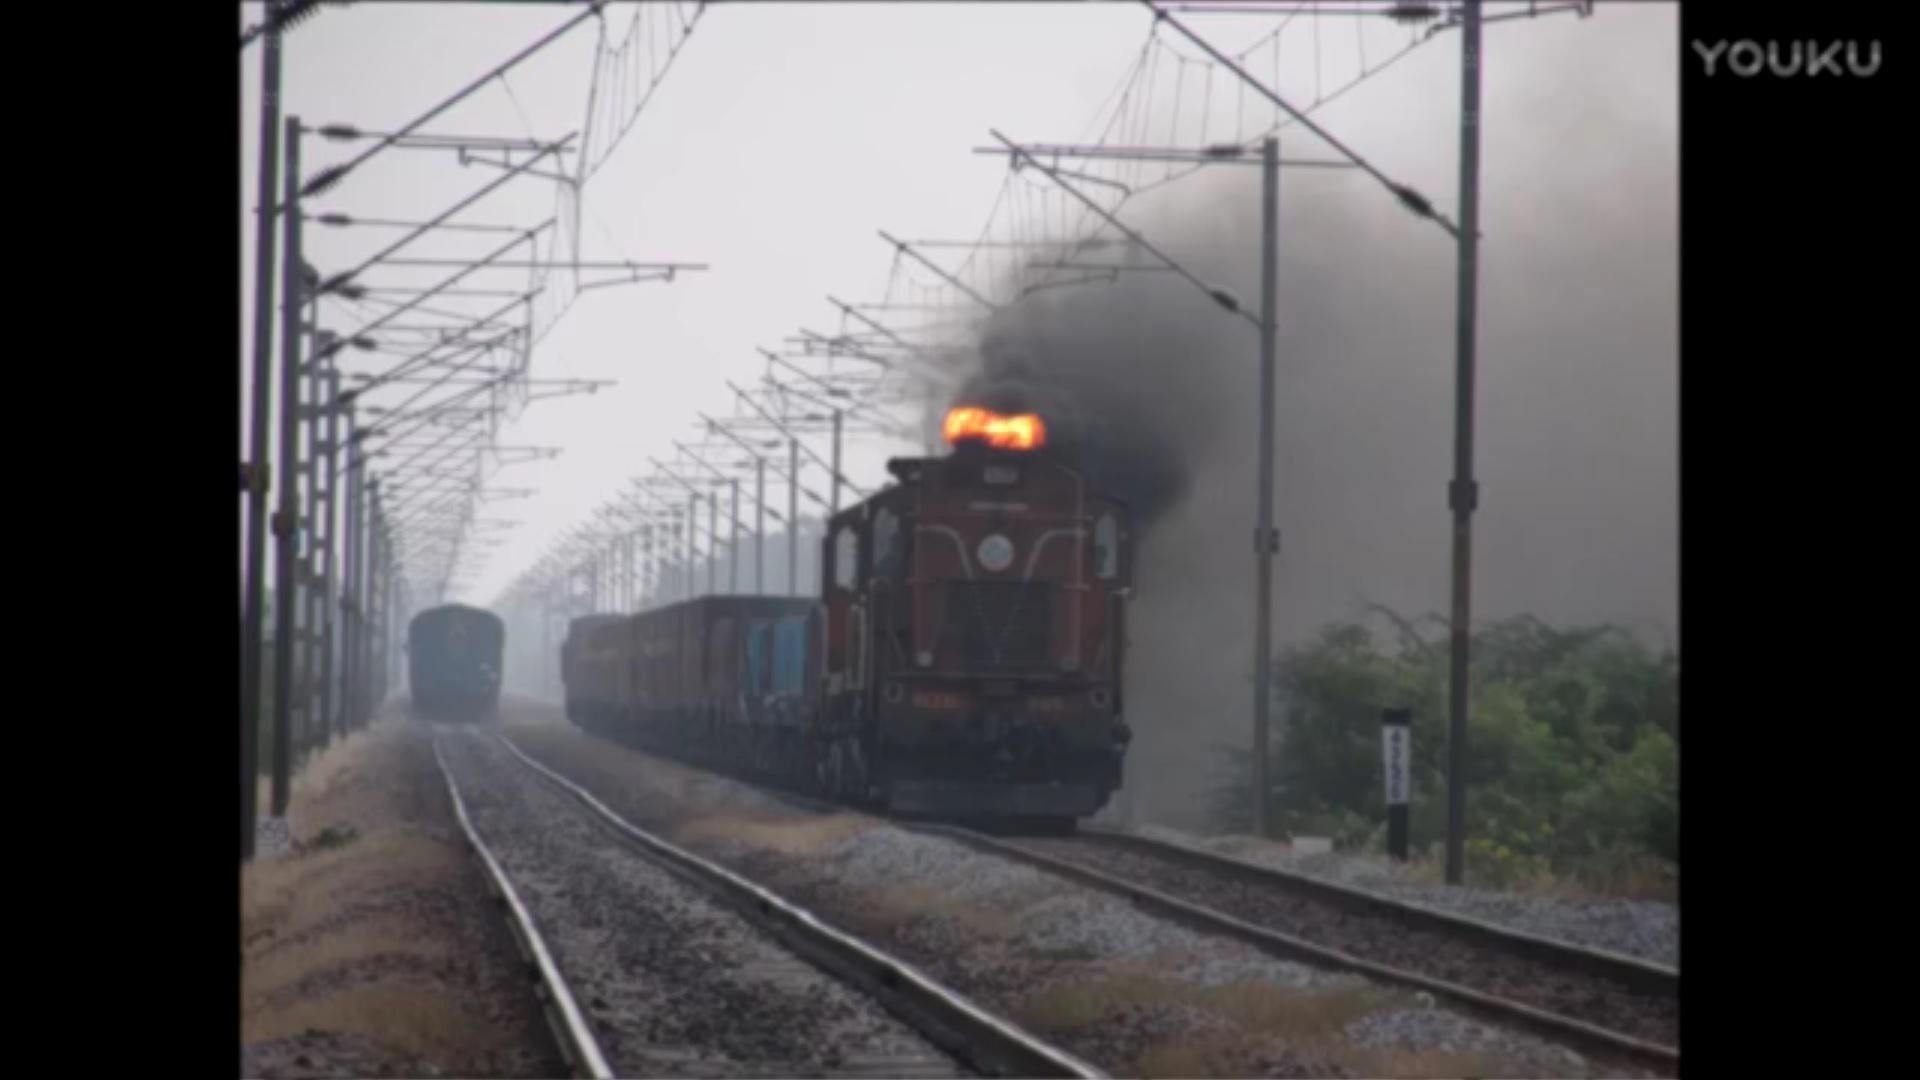fire: (942, 402, 1047, 450)
